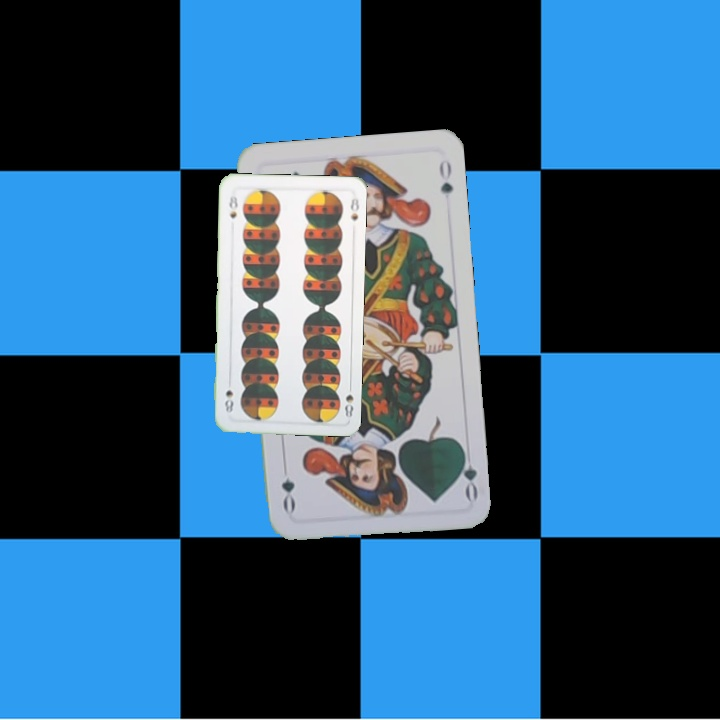GO: (454, 443, 480, 502)
S8: (341, 380, 356, 420), (225, 192, 240, 221)
